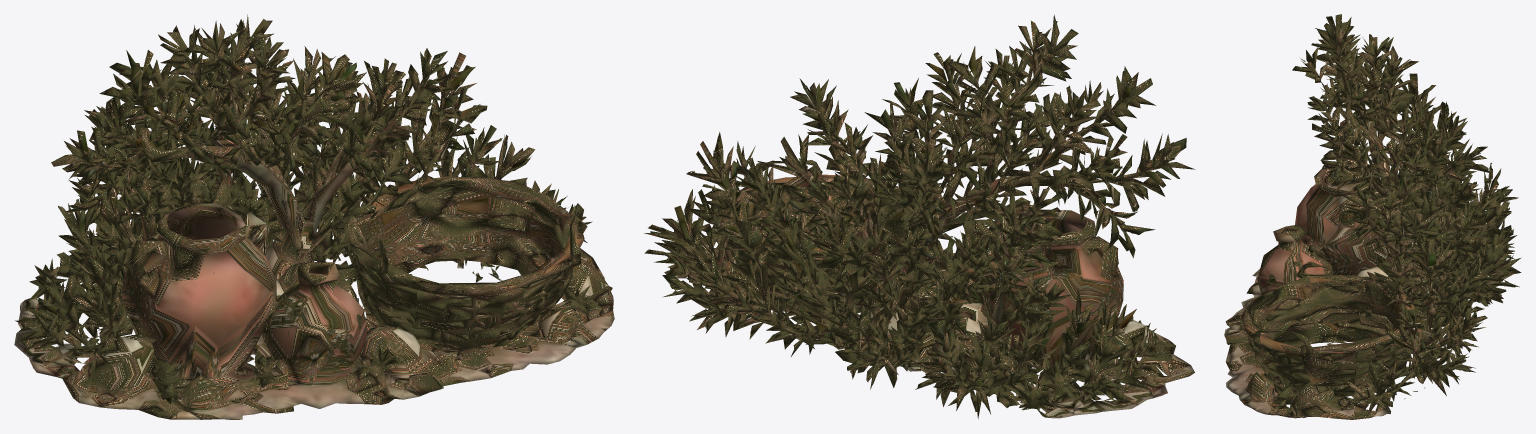
Rendered from olive-basket-cluster-b.glb.
3 renders of one model, left to right at view 1: azimuth 30°, elevation 25°; view 2: azimuth 150°, elevation 25°; view 3: azimuth 270°, elevation 25°, orthographic. The views are drawn at different scales.
Visible parts, largest first — view 1: geometry_0; view 2: geometry_0; view 3: geometry_0.
Part boxes in pixels (x1=…): geometry_0: x1=14, y1=14, x2=614, y2=419; geometry_0: x1=644, y1=14, x2=1195, y2=419; geometry_0: x1=1224, y1=14, x2=1521, y2=419.
Bounding box in the file's own units: 1.88 × 1.15 × 1.16.
Materials: 1 (1 with a texture image).
